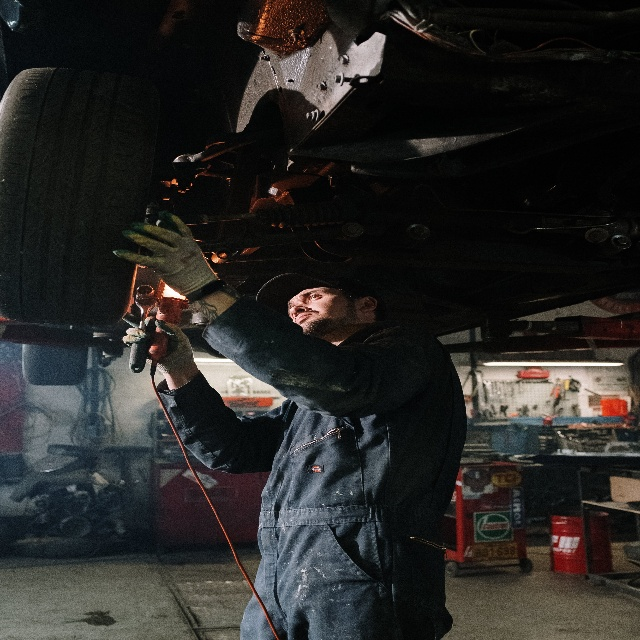Guantes: (111, 212, 223, 299), (121, 315, 195, 374)
